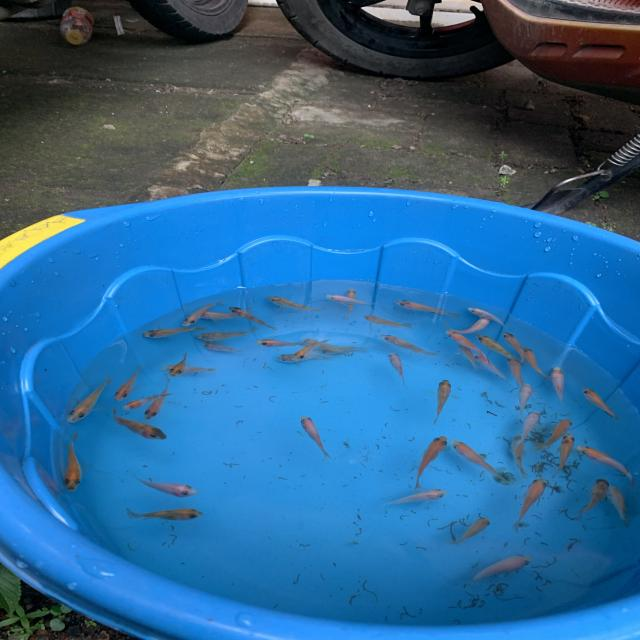nila: (568, 438, 638, 487), (448, 439, 515, 484), (408, 432, 452, 491), (65, 373, 112, 427), (106, 409, 174, 444), (464, 553, 534, 587), (374, 486, 457, 514), (132, 470, 202, 502), (124, 503, 213, 527), (472, 330, 526, 368), (445, 320, 493, 362), (512, 476, 550, 528), (296, 412, 336, 461), (379, 331, 445, 358), (581, 379, 622, 421), (449, 514, 496, 550), (356, 306, 420, 332), (530, 415, 574, 452), (466, 350, 512, 384), (576, 476, 612, 518), (141, 375, 172, 423), (64, 431, 88, 493), (499, 328, 536, 368), (230, 303, 279, 333), (448, 337, 486, 375), (396, 294, 461, 316), (264, 296, 331, 317), (122, 389, 183, 412), (286, 337, 331, 368), (190, 326, 262, 345), (514, 405, 545, 448), (501, 348, 531, 392), (550, 430, 576, 480), (140, 323, 215, 340), (443, 313, 496, 337), (515, 342, 550, 378), (111, 366, 144, 404), (431, 376, 457, 424), (384, 348, 412, 390), (607, 481, 630, 530), (183, 298, 218, 330), (303, 334, 352, 356), (508, 434, 531, 479), (511, 380, 537, 419), (271, 354, 338, 369), (548, 362, 572, 402), (197, 336, 245, 354), (253, 335, 313, 349), (324, 292, 380, 307), (469, 302, 504, 326), (162, 362, 226, 375), (314, 343, 373, 357), (168, 349, 192, 381), (196, 308, 248, 320), (343, 286, 358, 327)
